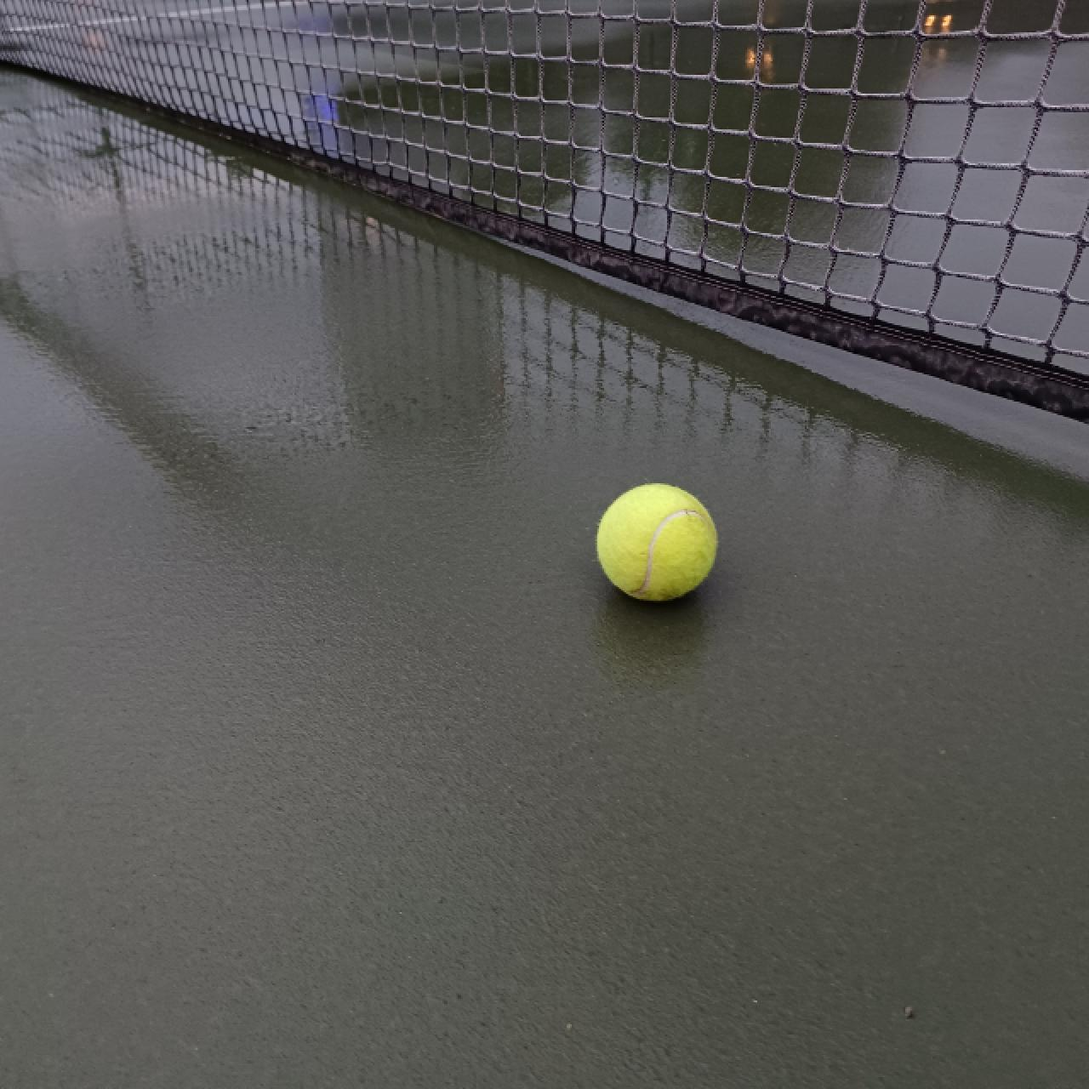tennis-ball: (595, 480, 721, 603)
